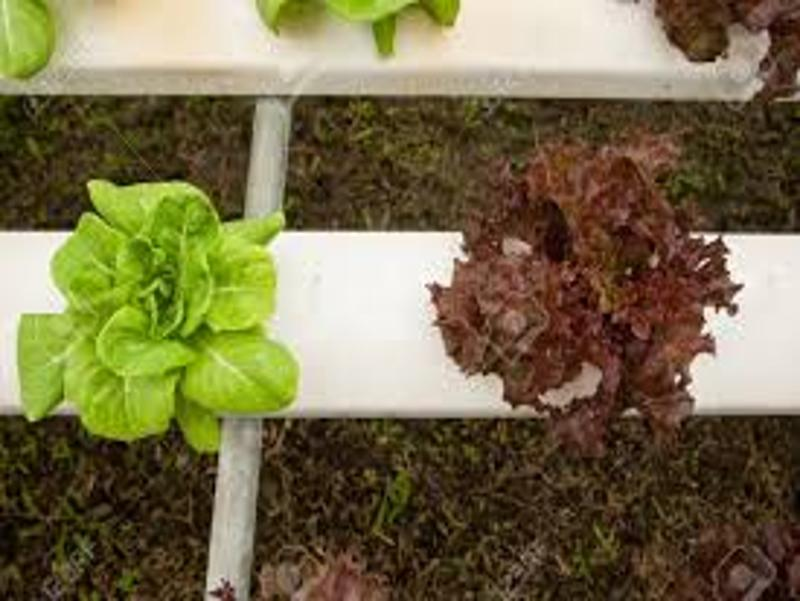cabbage: (62, 177, 298, 444)
red lettuce: (463, 148, 700, 439)
